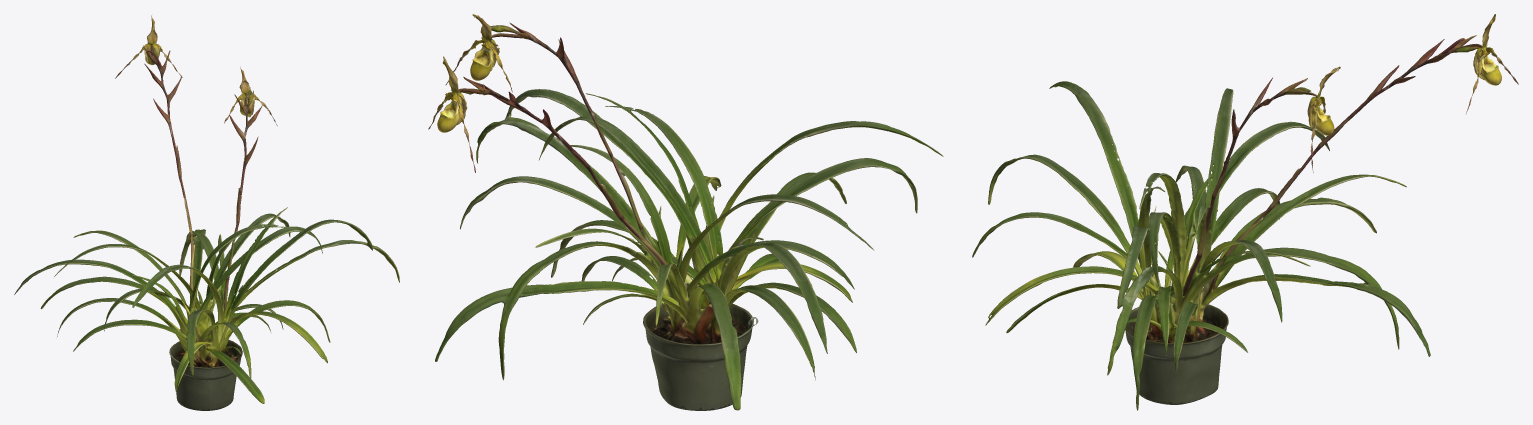
File: Wolf-River.glb
3 views of the same model, side by side, from view 1: azimuth 30°, elevation 25°; view 2: azimuth 150°, elevation 25°; view 3: azimuth 270°, elevation 25° (orthographic). The views are drawn at different scales.
Bounding box in the file's own units: 0.4815 × 0.4321 × 0.5153.
Materials: 1 (1 with a texture image).
